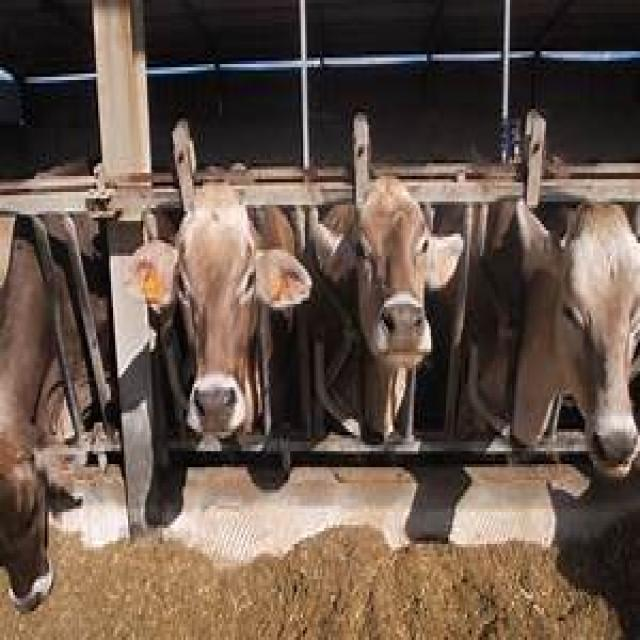cow: (131, 120, 311, 442), (469, 204, 640, 472), (310, 176, 432, 441), (0, 240, 54, 612)
